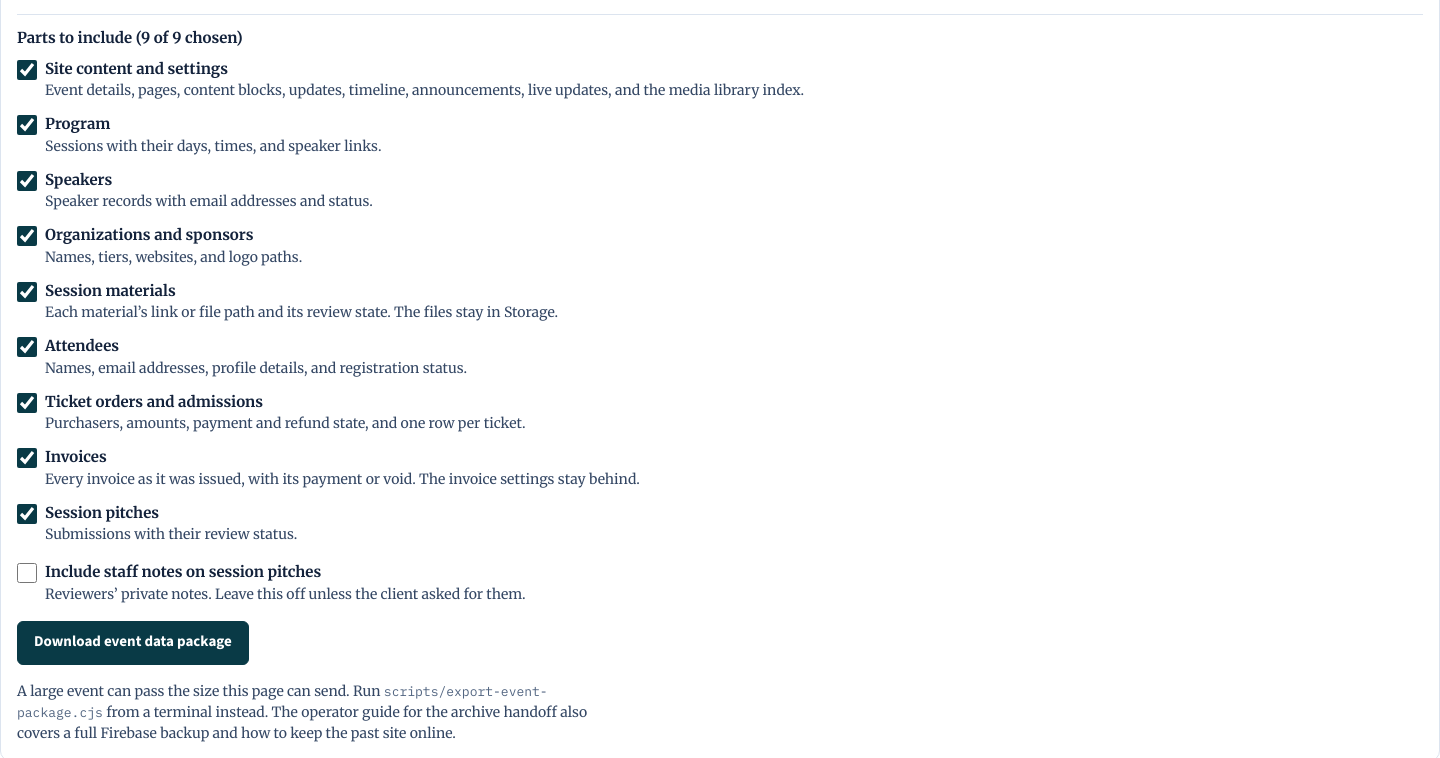
Scenario: AdminDataExport › states a package refusal, such as a package too large for the page
(page scrolled)
Click the button "Download event data package": click(133, 643) [17,621,249,665]
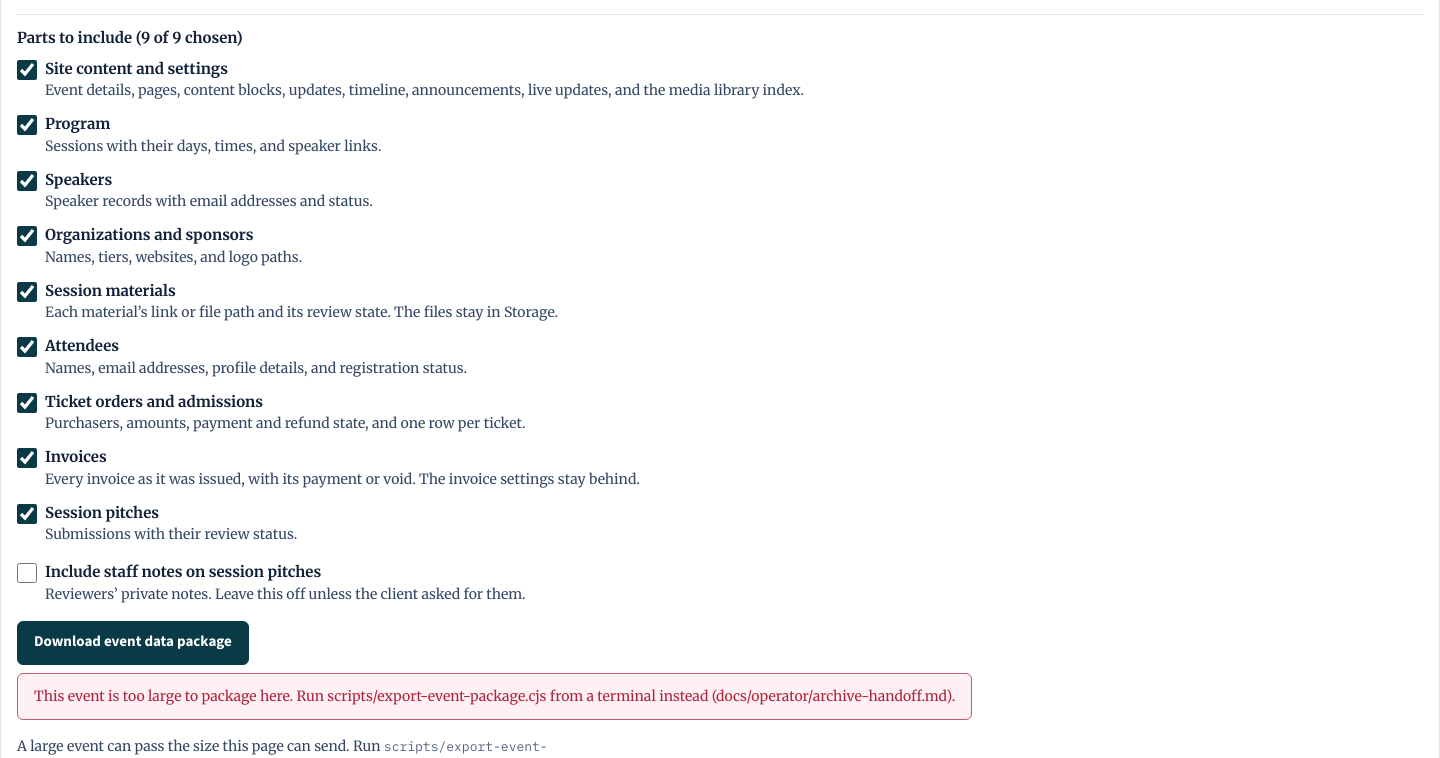
Expected: the message shows "too large to package here", [34,687,955,705]
